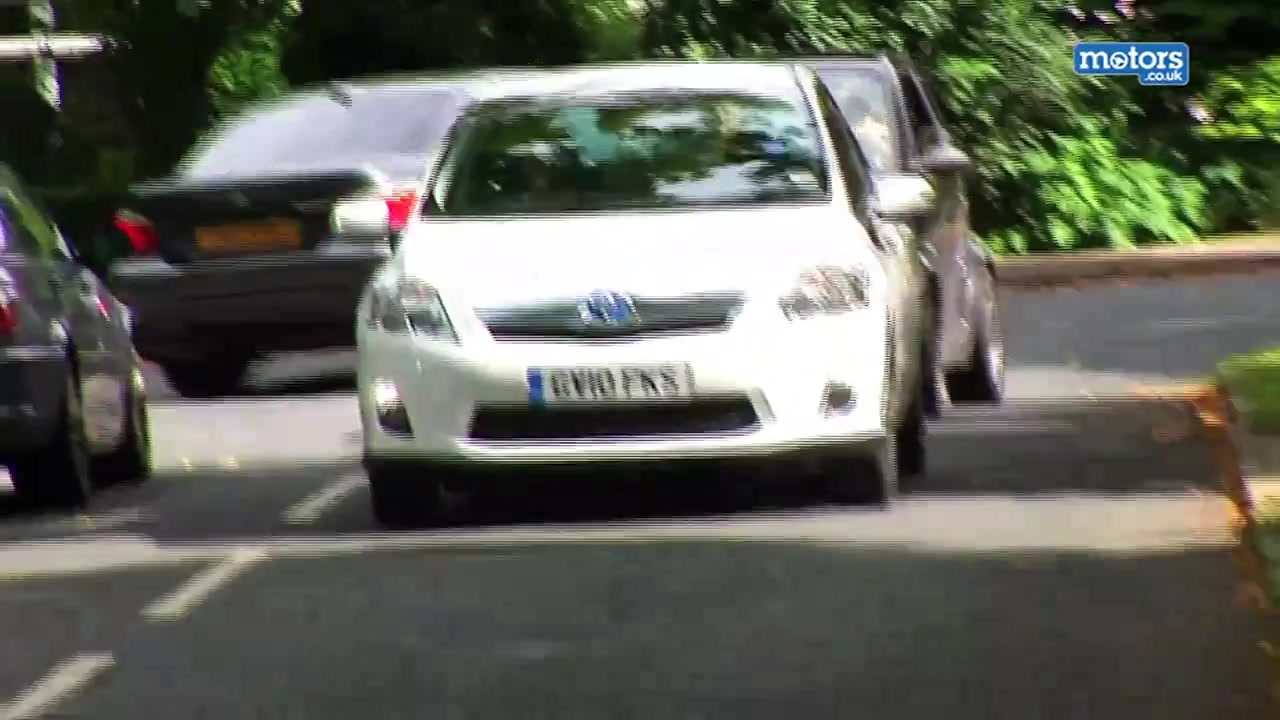car: (334, 60, 938, 516), (99, 68, 548, 399), (793, 50, 1008, 415), (1, 149, 150, 533)
